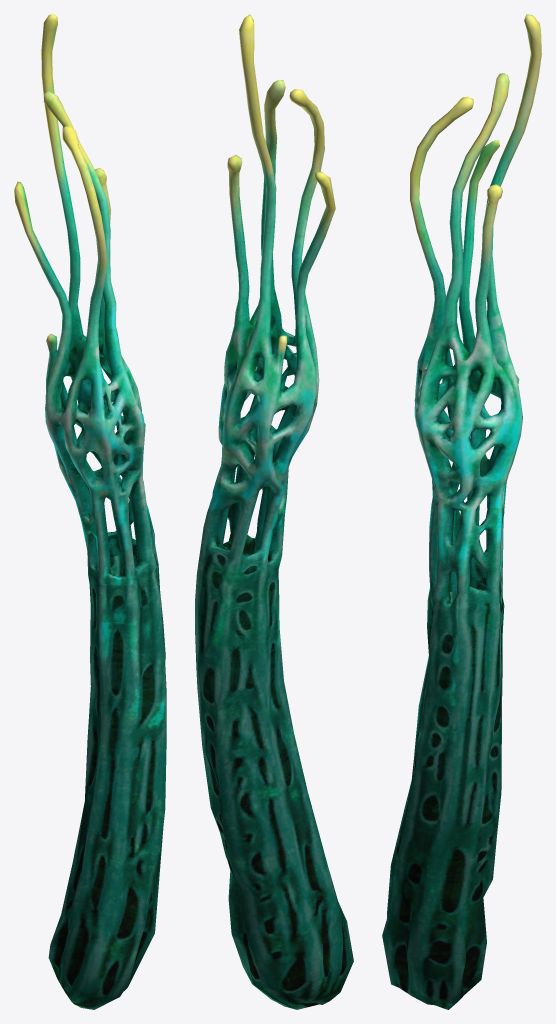
The model's file is flora_1.obj.
The picture shows the model from 3 angles, left to right: view 1: azimuth 30°, elevation 25°; view 2: azimuth 150°, elevation 25°; view 3: azimuth 270°, elevation 25°; orthographic projection. The views are drawn at different scales.
Visible parts, largest first — view 1: FrozenRiver_plant_01_a_LOD0_Material.001_0; view 2: FrozenRiver_plant_01_a_LOD0_Material.001_0; view 3: FrozenRiver_plant_01_a_LOD0_Material.001_0.
Part boxes in pixels (x1,y1,x2,y2): FrozenRiver_plant_01_a_LOD0_Material.001_0: (14, 14, 166, 1009); FrozenRiver_plant_01_a_LOD0_Material.001_0: (195, 14, 353, 1009); FrozenRiver_plant_01_a_LOD0_Material.001_0: (382, 14, 541, 1009).
Bounding box in the file's own units: 1.74 × 11.79 × 1.72.
Materials: 1 (1 with a texture image).
